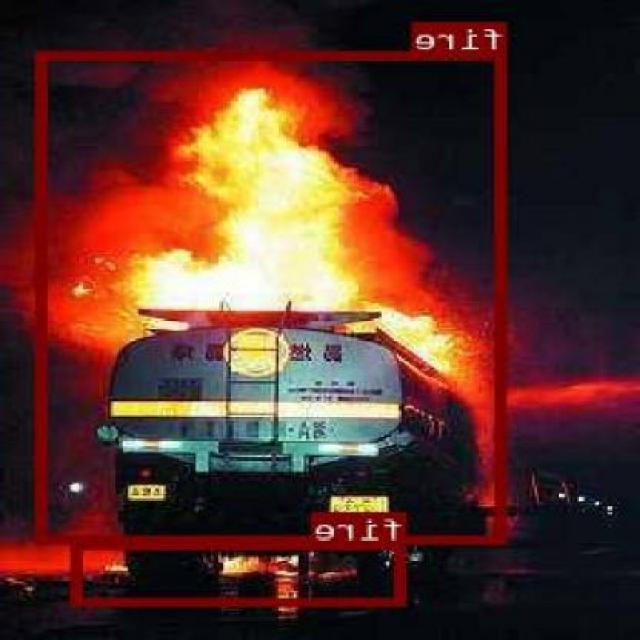Fire: (38, 49, 510, 543), (75, 540, 408, 605)
